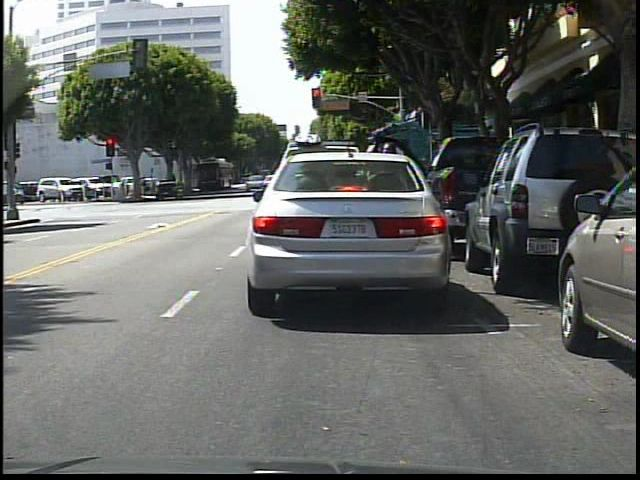car: (246, 148, 481, 316), (460, 129, 590, 284), (563, 148, 640, 363), (35, 173, 82, 201), (74, 175, 108, 200)
